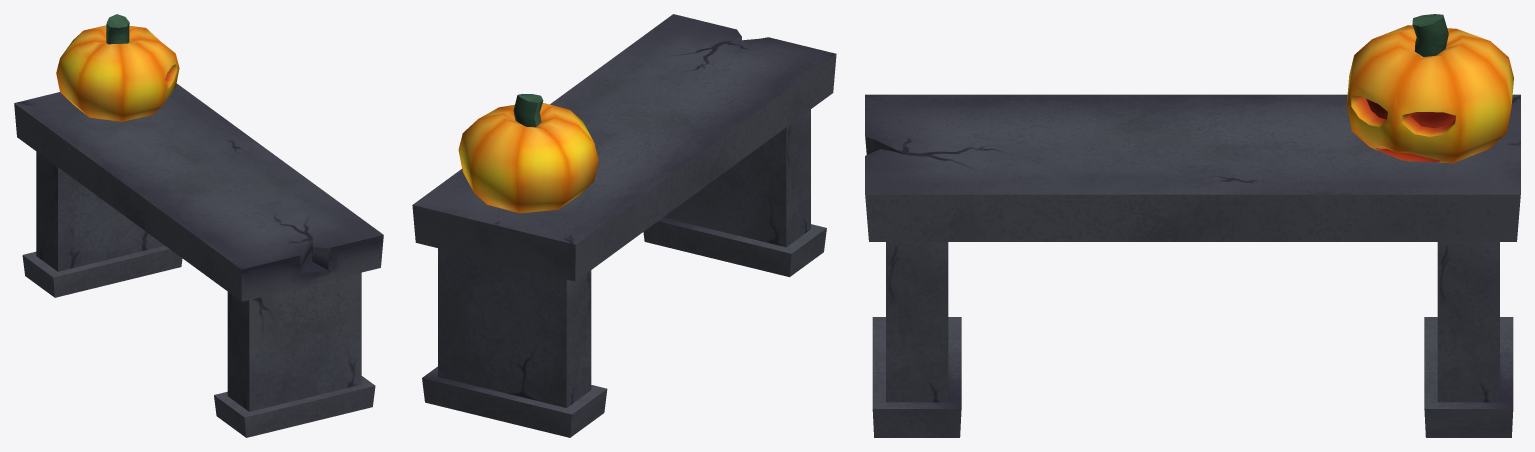
Rendered from stone_bench.fbx.
3 views of the same model, side by side, from view 1: azimuth 30°, elevation 25°; view 2: azimuth 150°, elevation 25°; view 3: azimuth 270°, elevation 25° (orthographic). The views are drawn at different scales.
Parts seen in each view (by area): view 1: stone bench, pumpkin.003; view 2: stone bench, pumpkin.003; view 3: stone bench, pumpkin.003.
Part boxes in pixels (bbox=[...]): stone bench: bbox=[14, 83, 383, 437]; pumpkin.003: bbox=[56, 14, 179, 121]; stone bench: bbox=[412, 14, 836, 437]; pumpkin.003: bbox=[458, 94, 598, 213]; stone bench: bbox=[865, 94, 1520, 437]; pumpkin.003: bbox=[1346, 14, 1513, 163].
Bounding box in the file's own units: 339 × 599 × 939.
